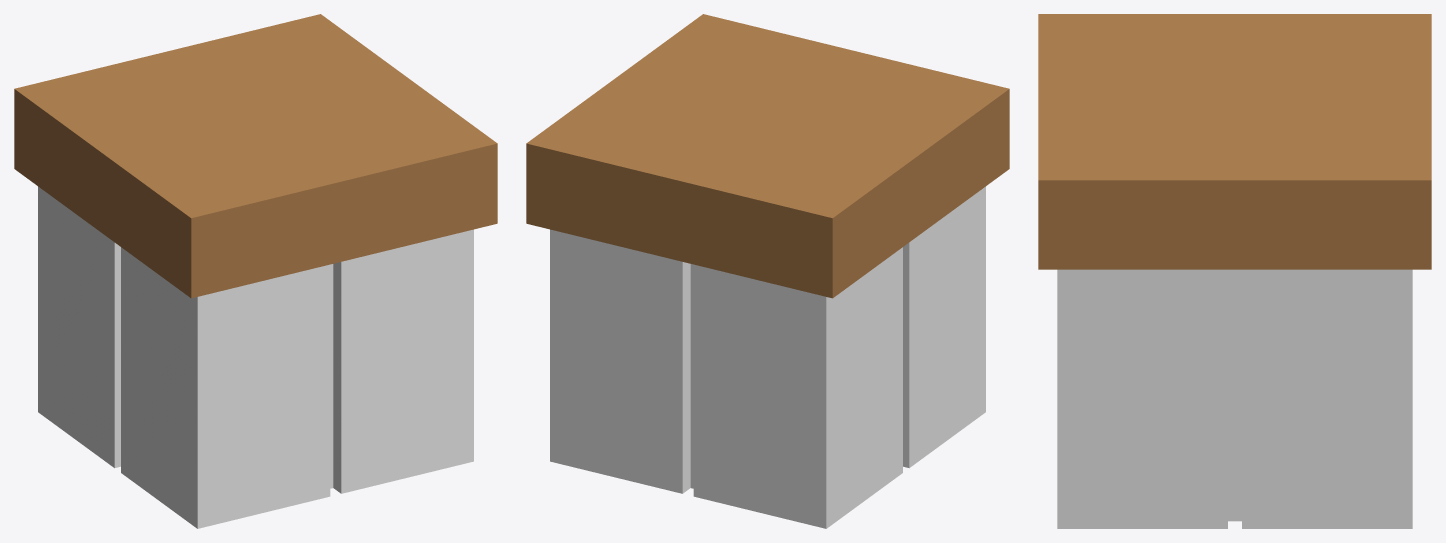
File: Desk_Block.fbx
The picture shows the model from 3 angles, left to right: view 1: azimuth 30°, elevation 25°; view 2: azimuth 150°, elevation 25°; view 3: azimuth 270°, elevation 25°; orthographic projection. The views are drawn at different scales.
Visible parts, largest first — view 1: Desk_Block; view 2: Desk_Block; view 3: Desk_Block.
Boxes of the visible parts, box(x1,y1,x2,y2) form: Desk_Block: box(14, 14, 497, 528); Desk_Block: box(526, 14, 1009, 528); Desk_Block: box(1038, 14, 1431, 528).
Bounding box in the file's own units: 5 × 5 × 5.
